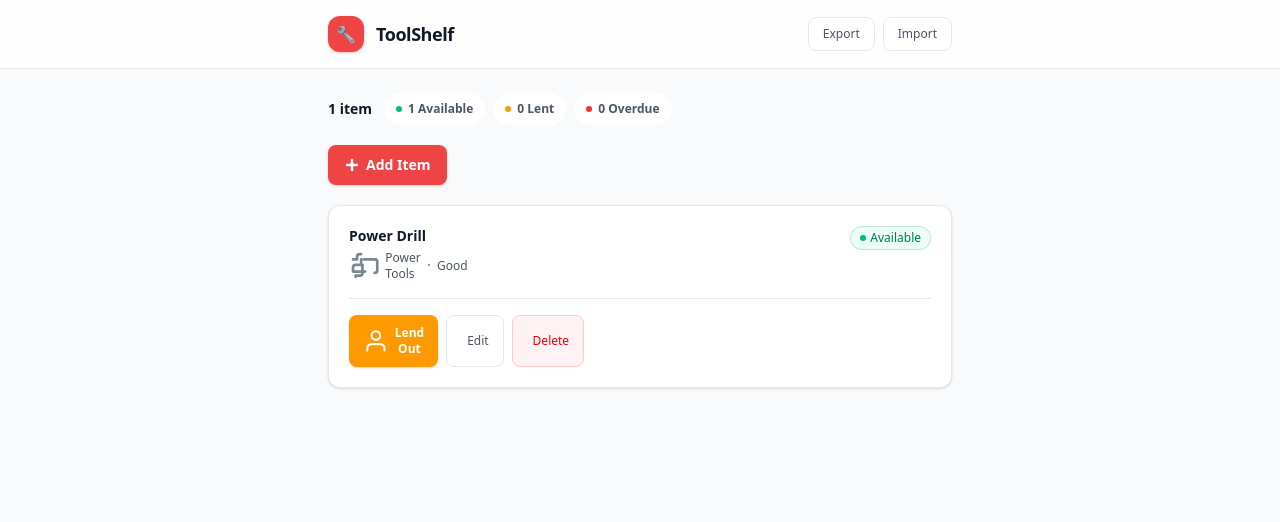
Test case: Empty state with active filters › shows "Clear all filters" button when filters are active and no results
# Click "Overdue" filter (no items are overdue)
Click the button "0 Overdue" at (623, 109), box [574,93,672,125]
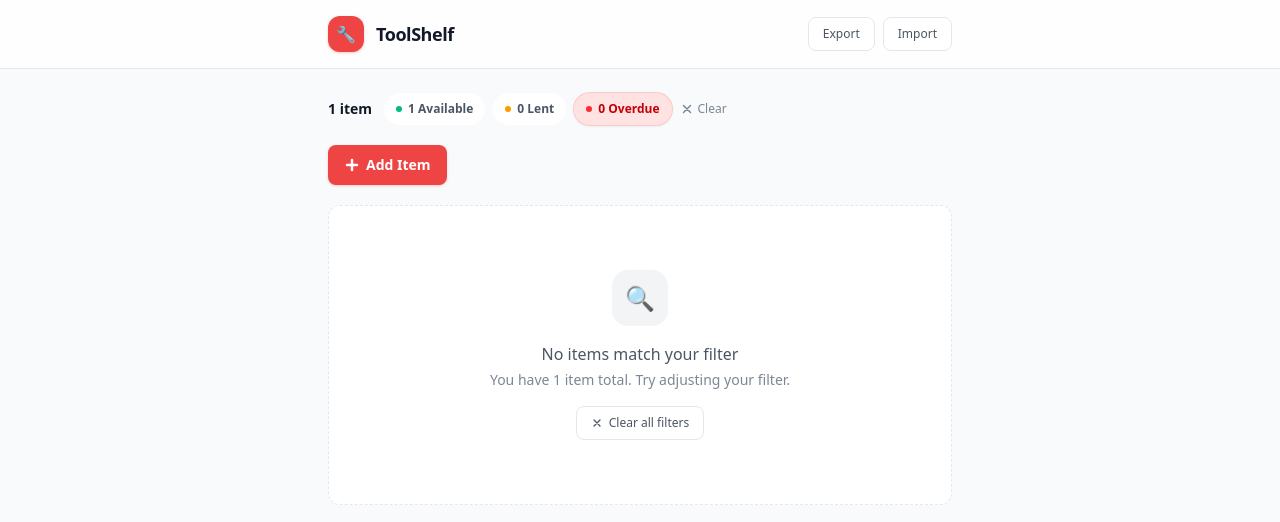
Expected: the button "Clear all filters" is shown, [576,406,704,440]
